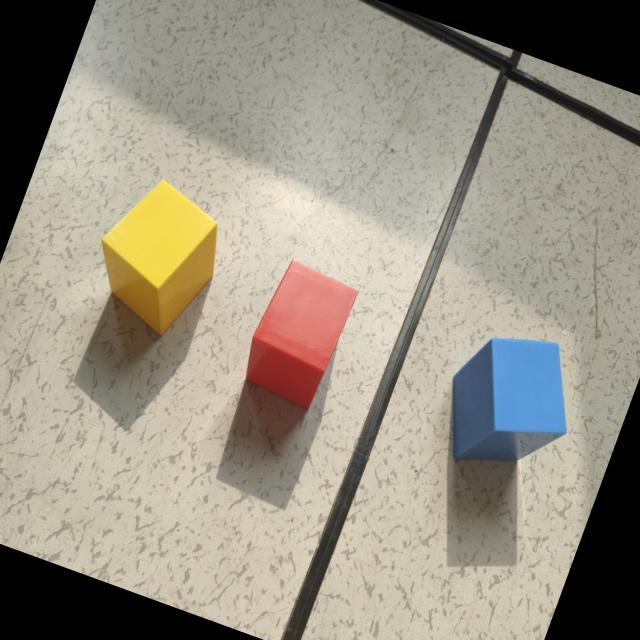blue: (449, 338, 567, 469)
red: (246, 263, 358, 411)
yellow: (100, 182, 217, 338)
